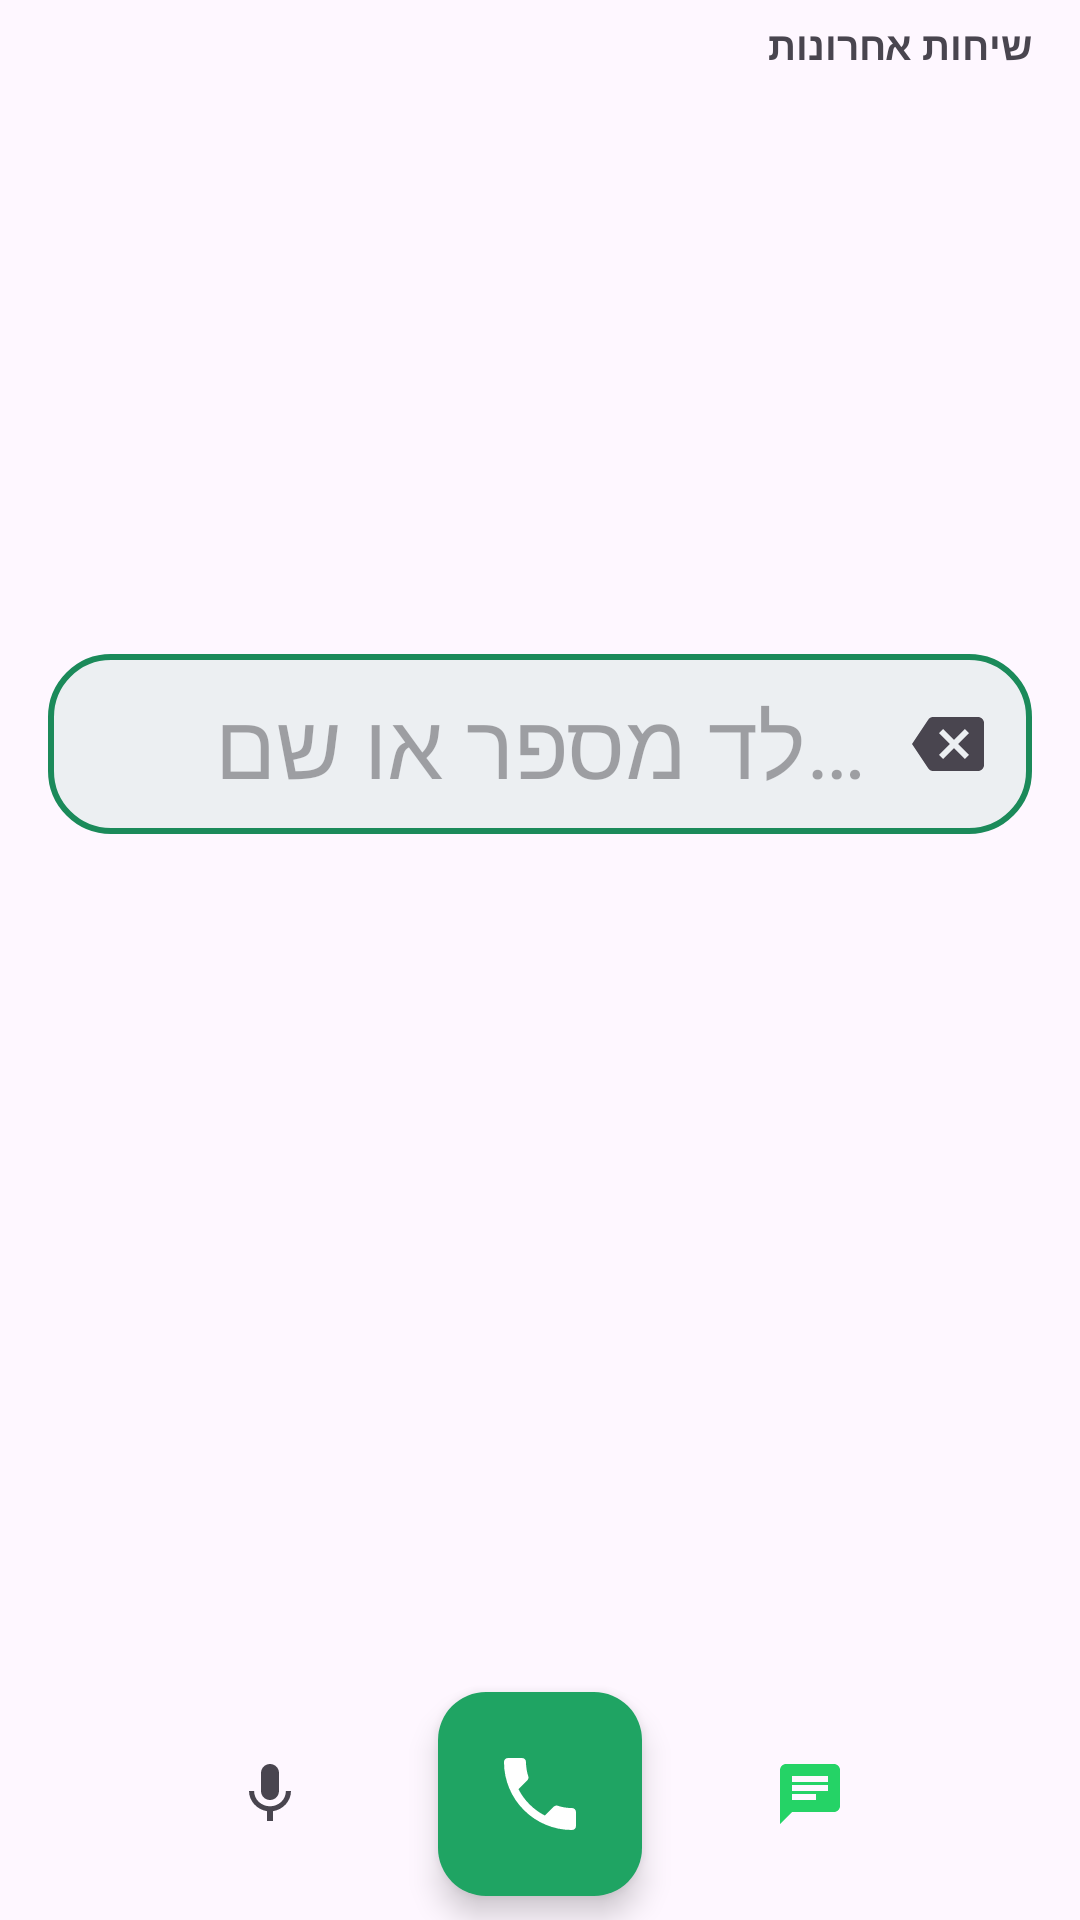

Locate icon controls on the screen. Image size 1080x1920, boxes as (x1, y1, x2, y2).
חיוג קולי: (249, 1764, 291, 1821)
חייג: (438, 1692, 642, 1896)
מחק: (912, 717, 984, 771)
